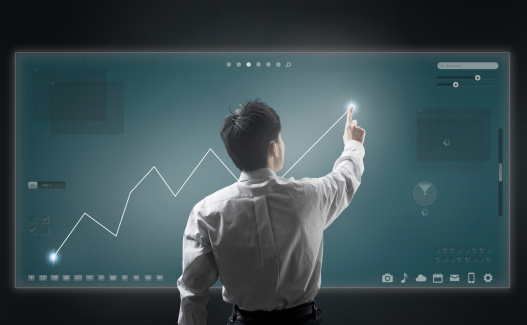em pe: (165, 102, 357, 325)
